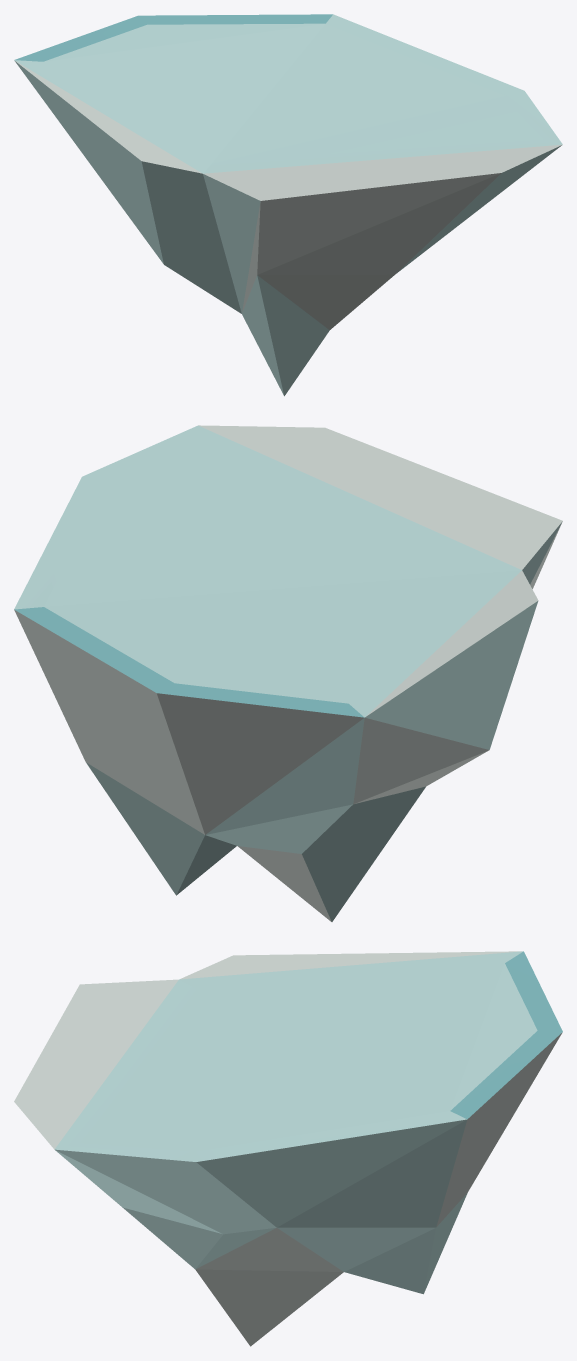
The model's file is SUELO3.fbx.
3 views of the same model, one above another, from view 1: azimuth 30°, elevation 25°; view 2: azimuth 150°, elevation 25°; view 3: azimuth 270°, elevation 25° (orthographic). The views are drawn at different scales.
Visible parts, largest first — view 1: Cubo.047; view 2: Cubo.047; view 3: Cubo.047.
Boxes of the visible parts, x1=… form: Cubo.047: x1=14, y1=14, x2=562, y2=396; Cubo.047: x1=14, y1=425, x2=562, y2=921; Cubo.047: x1=14, y1=951, x2=562, y2=1346.
Size of the model in its own units: 73.13 by 53.93 by 85.16.
